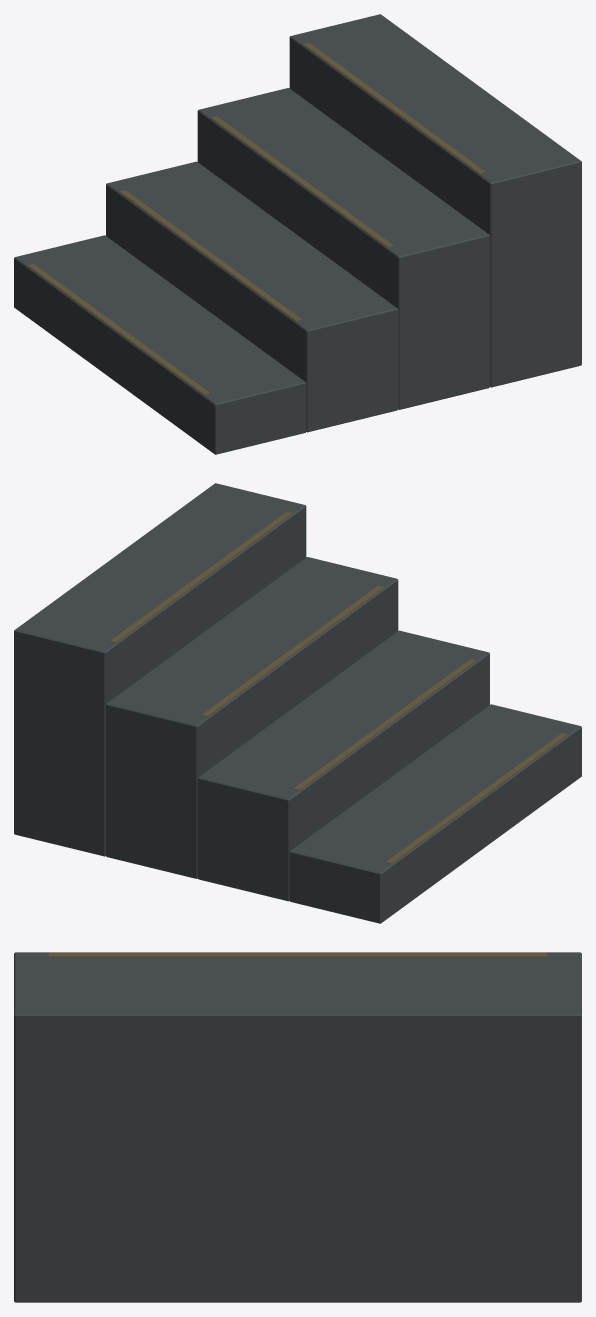
File: SM_FoodTruck_Steps_A.fbx
The picture shows the model from 3 angles, top to bottom: view 1: azimuth 30°, elevation 25°; view 2: azimuth 150°, elevation 25°; view 3: azimuth 270°, elevation 25°; orthographic projection. The views are drawn at different scales.
Visible parts, largest first — view 1: SM_FoodTruck_Steps_A; view 2: SM_FoodTruck_Steps_A; view 3: SM_FoodTruck_Steps_A.
Part boxes in pixels (x1,y1,x2,y2): SM_FoodTruck_Steps_A: [14, 14, 581, 454]; SM_FoodTruck_Steps_A: [14, 483, 581, 923]; SM_FoodTruck_Steps_A: [14, 952, 581, 1302].
Bounding box in the file's own units: 114 × 120 × 64.
